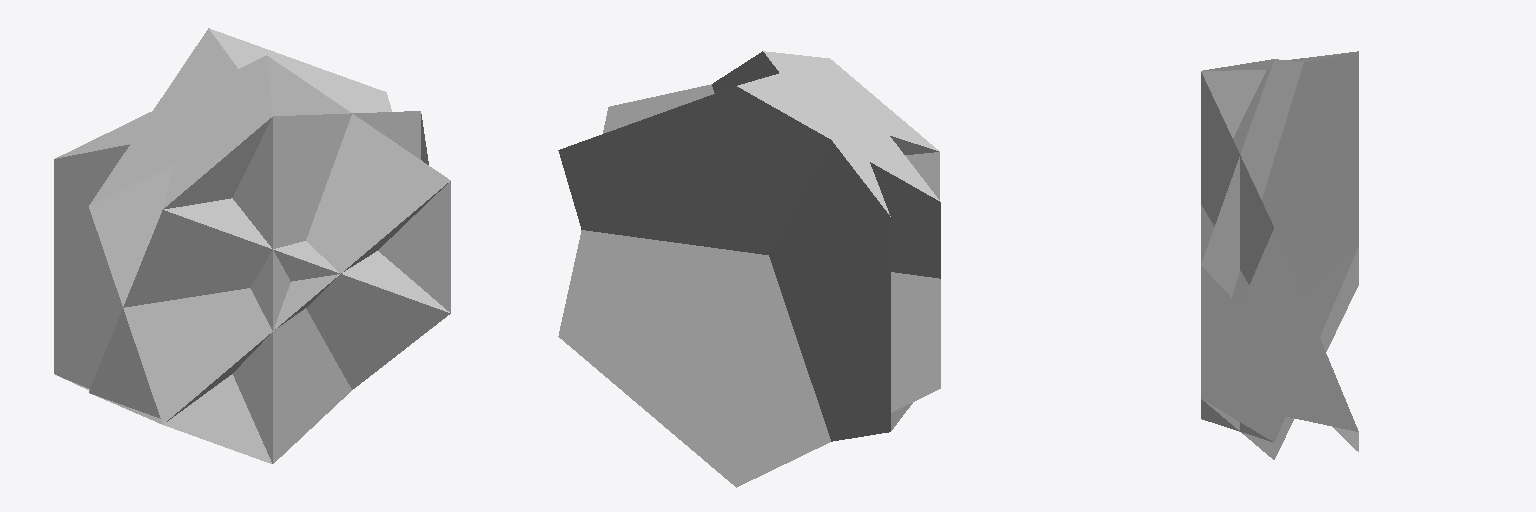
File: RapsadyVerf.obj
3 views of the same model, side by side, from view 1: azimuth 30°, elevation 25°; view 2: azimuth 150°, elevation 25°; view 3: azimuth 270°, elevation 25° (orthographic).
Parts seen in each view (by area): view 1: Unnamed; view 2: Unnamed; view 3: Unnamed.
Part boxes in pixels (bbox=[...]): Unnamed: bbox=[54, 28, 450, 463]; Unnamed: bbox=[558, 51, 940, 487]; Unnamed: bbox=[1201, 51, 1358, 459].
Size of the model in its own units: 1.03 by 1.16 by 0.4136.